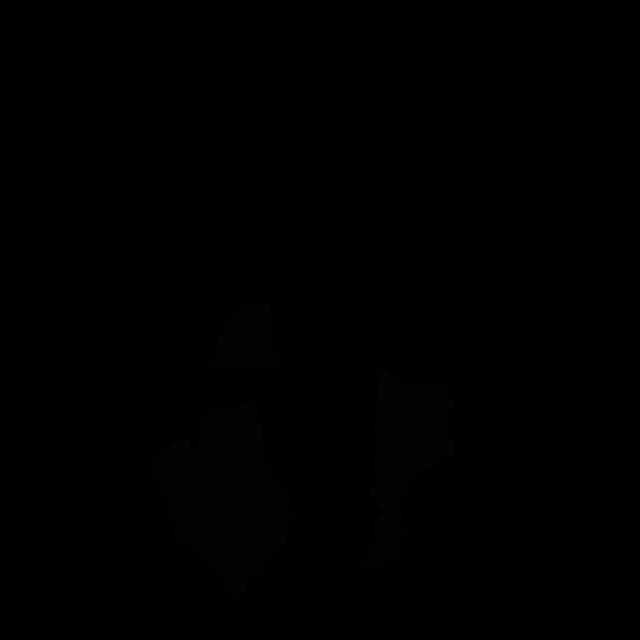cardboard: (359, 364, 456, 570), (198, 399, 296, 600), (146, 429, 224, 573), (208, 300, 282, 372)
rigid_plastic: (355, 0, 470, 151), (455, 134, 477, 200)
